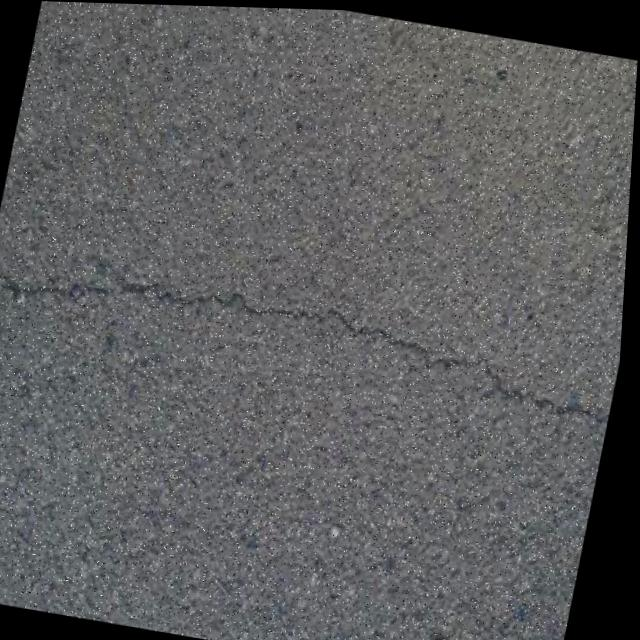Crack: (0, 239, 629, 435)
